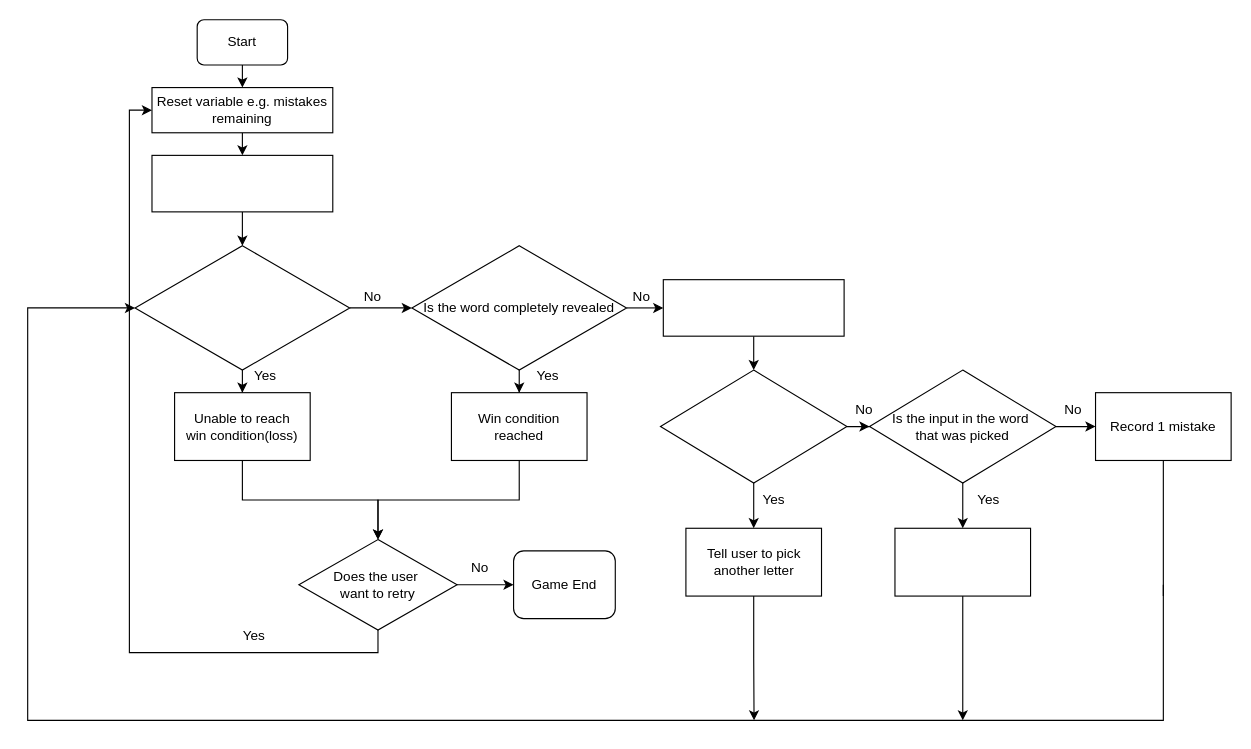
The diagram is 1251 pixels wide and 749 high, and some of its shapes have lost their labels. The shapes that lost their labels are listed below. From the top down, each one's centre as x and y in pixels, then its label:
the point at 242,183: Choose a random word from word list
the point at 242,307: Has the maximum amount of miss reached
the point at 753,307: Waiting for player to type in a letter
the point at 753,426: If letter has been guessed previously
the point at 962,561: Reveal all of the letter in the word
